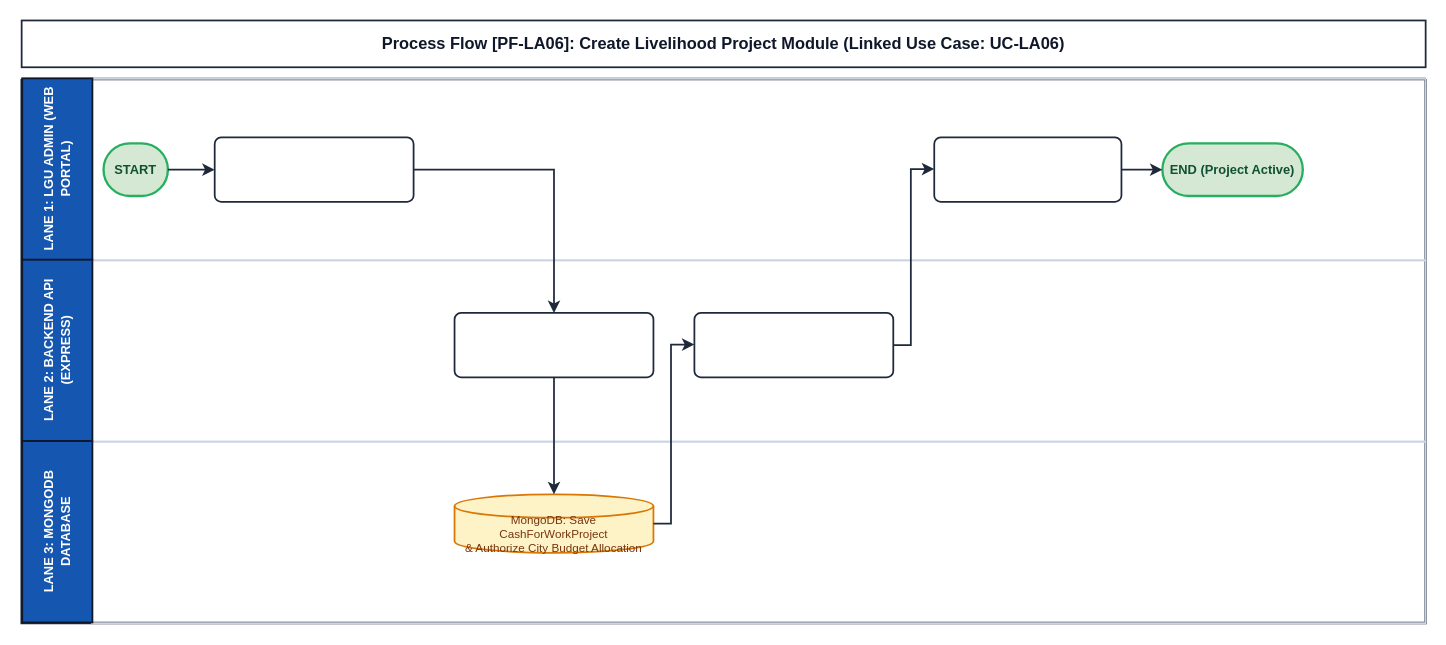
Image size: 1446x645. Some labels were removed from this diagram. The centre of each missing label's shape, as x and y in pixels:
Display Active Project in Live Livelihood Assistance Registry: (x=1027, y=169)
Fill Direct CFW Project Details: Target Brgy, Slots, Budget, Duration: (x=313, y=169)
POST /api/cash-for-work/projects (Status set to "approved_active"): (x=553, y=345)
Socket.IO: Open Enrollment Broadcast to Resident Mobile Apps in Target Brgy: (x=793, y=345)
